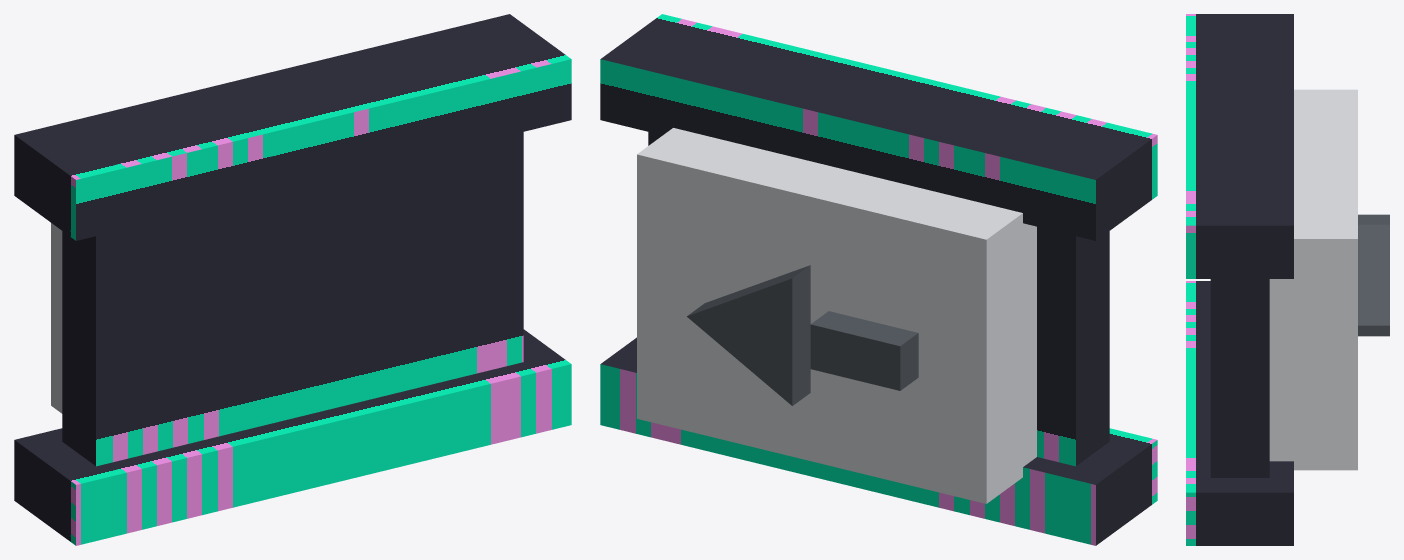
Rendered from nav_chevron.glb.
3 renders of one model, left to right at view 1: azimuth 30°, elevation 25°; view 2: azimuth 150°, elevation 25°; view 3: azimuth 270°, elevation 25°, orthographic. The views are drawn at different scales.
Parts seen in each view (by area): view 1: nav_chevron; view 2: nav_chevron; view 3: nav_chevron.
Part boxes in pixels (left/top/right/bottom): nav_chevron: left=14, top=14, right=571, bottom=545; nav_chevron: left=600, top=14, right=1157, bottom=545; nav_chevron: left=1186, top=14, right=1389, bottom=545.
Bounding box in the file's own units: 0.51 × 0.36 × 0.2075.
6 materials, 3 textured.
